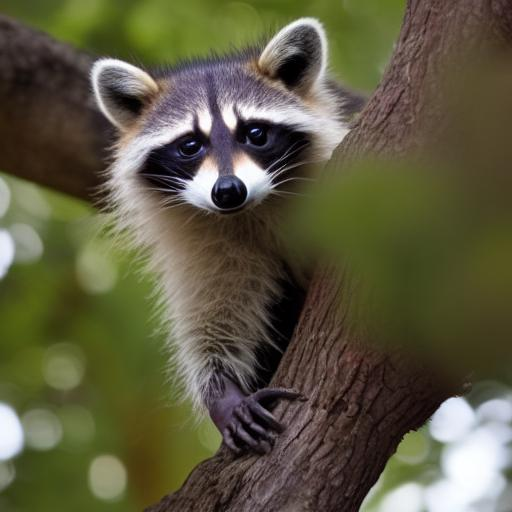raccoon: (85, 4, 345, 378)
